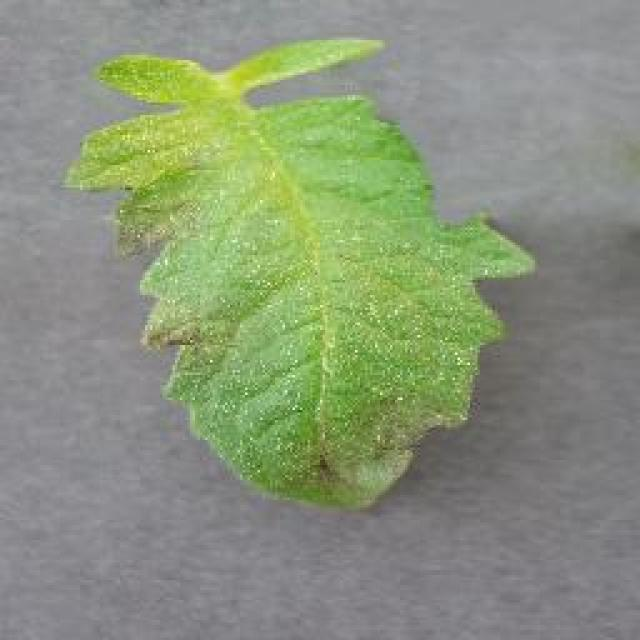Tomato Late Blight: (160, 172, 437, 480)
